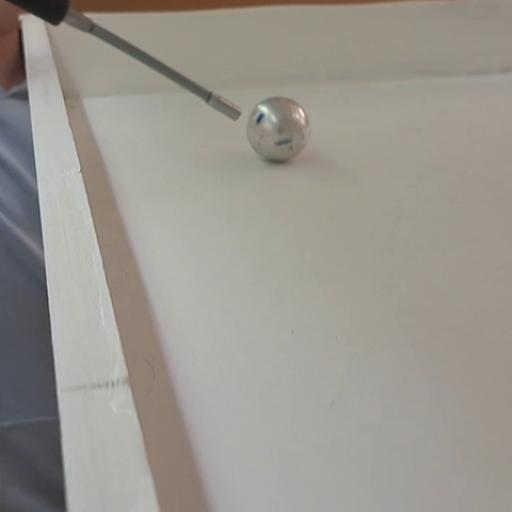alive: (247, 96, 312, 163)
